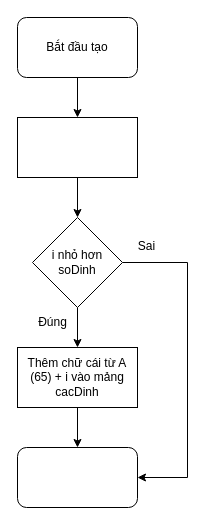
This 213x525 diagram has some shape labels left out. The shapes that lost their labels are listed below. From the top down, each one's centre as x and y in pixels, then its label:
the point at 77,147: Chạy vòng lặp i
the point at 77,477: Kết thúc
